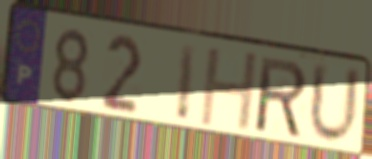2: (100, 32, 146, 118)
8: (49, 25, 94, 106)
H: (197, 47, 261, 133)
I: (173, 42, 199, 125)
R: (255, 54, 310, 141)
U: (306, 58, 364, 149)
